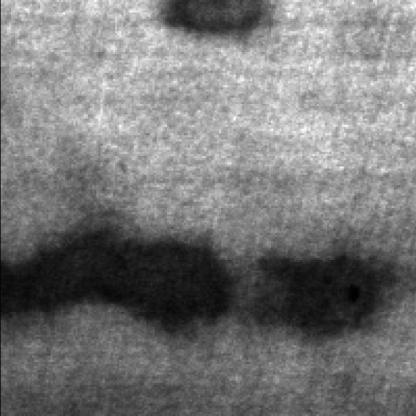patches: (0, 224, 229, 330), (241, 247, 385, 337), (150, 0, 272, 42)
